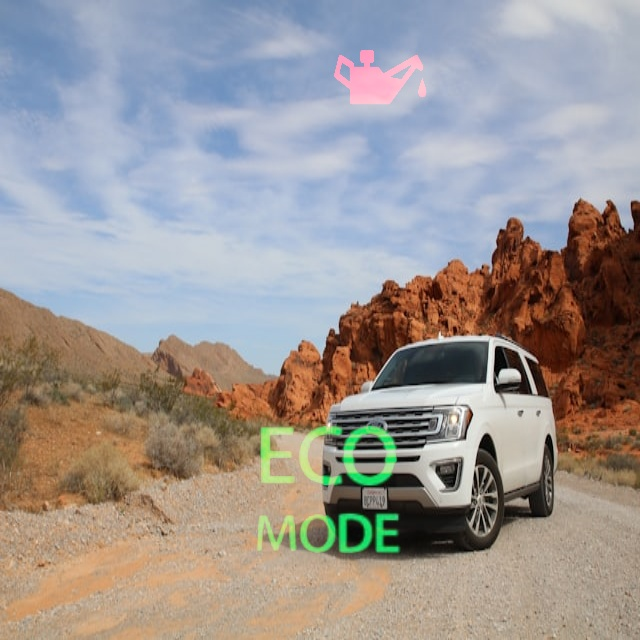symbol: (244, 409, 410, 575), (310, 1, 452, 143)
